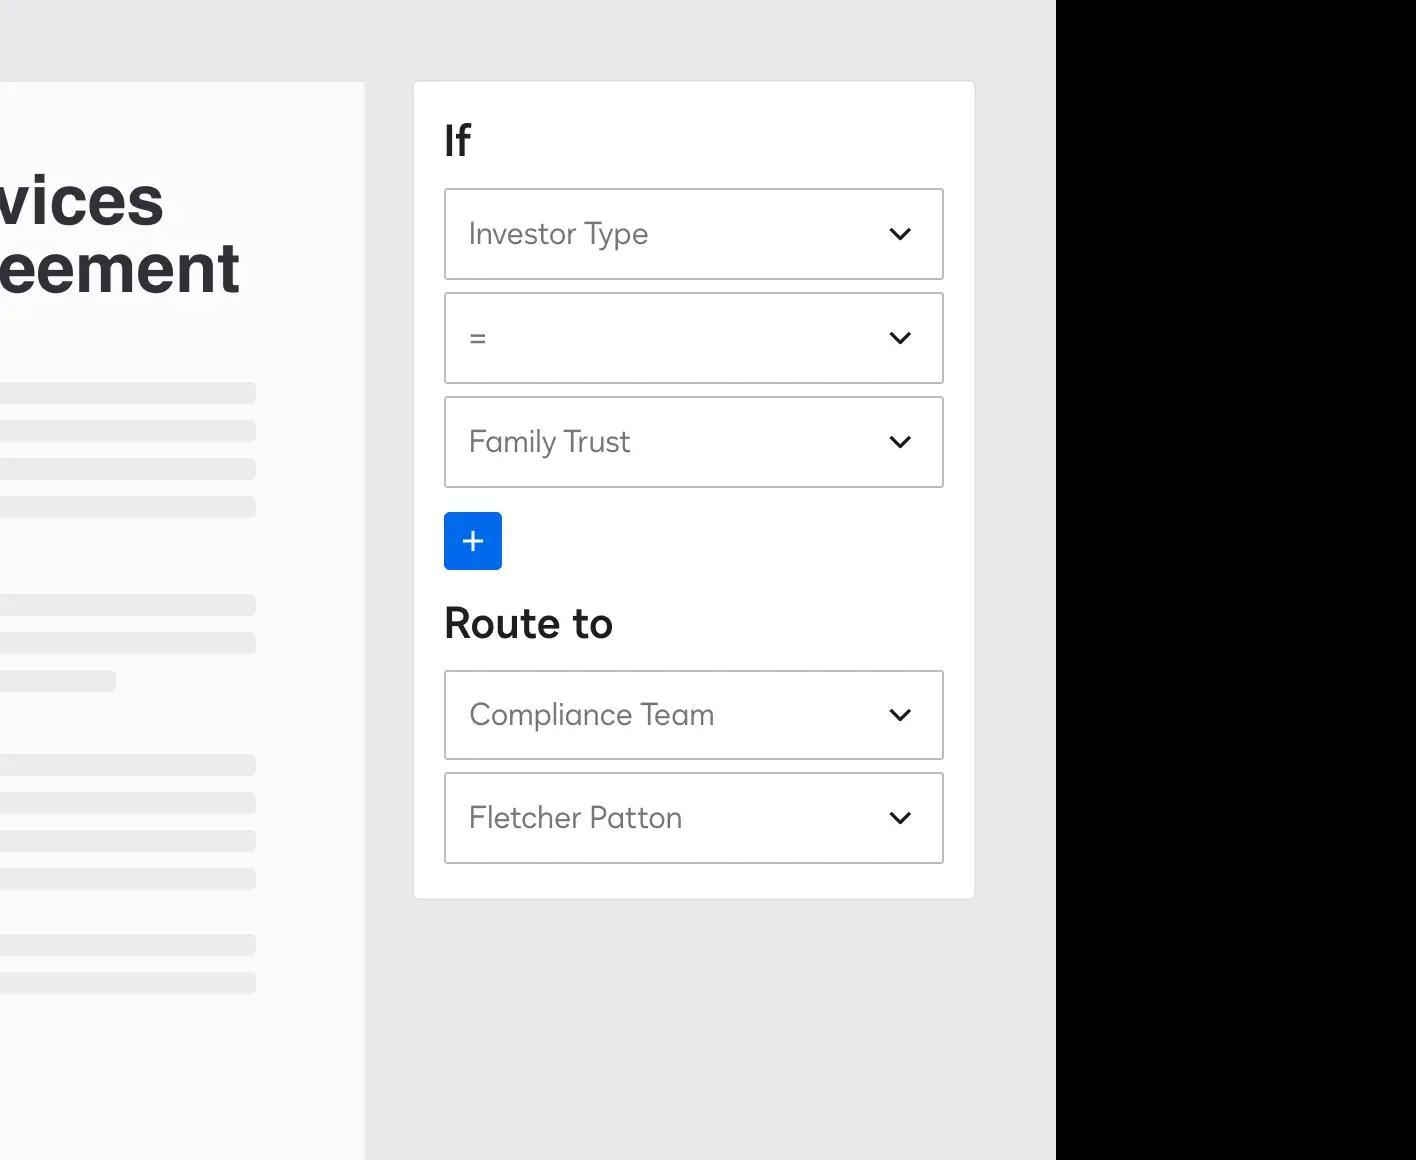dropdown: (445, 293, 946, 389), (446, 398, 944, 492), (447, 191, 947, 281), (445, 775, 944, 864), (448, 675, 946, 760)
icon: (445, 513, 502, 571)
